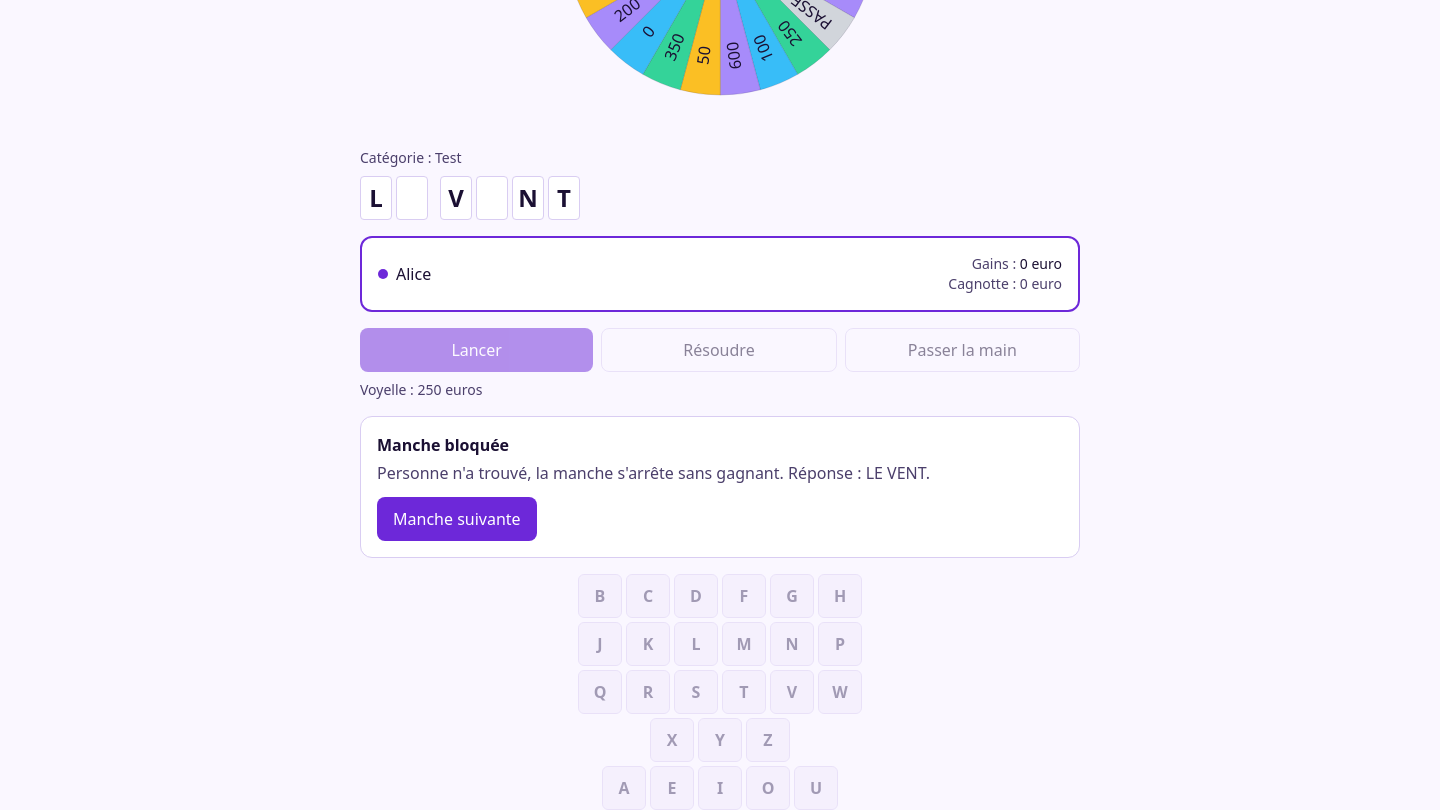
GameRoute › affiche la carte de manche bloquée, révèle la réponse et enchaîne sur la manche suivante
(page scrolled)
expect the heading "Manche bloquée" is shown: met, box [377,434,509,456]
expect the text "Réponse : LE VENT." is shown: met, box [377,462,930,484]
Click the button "Manche suivante": (457, 519) [377,497,537,541]
(page scrolled)
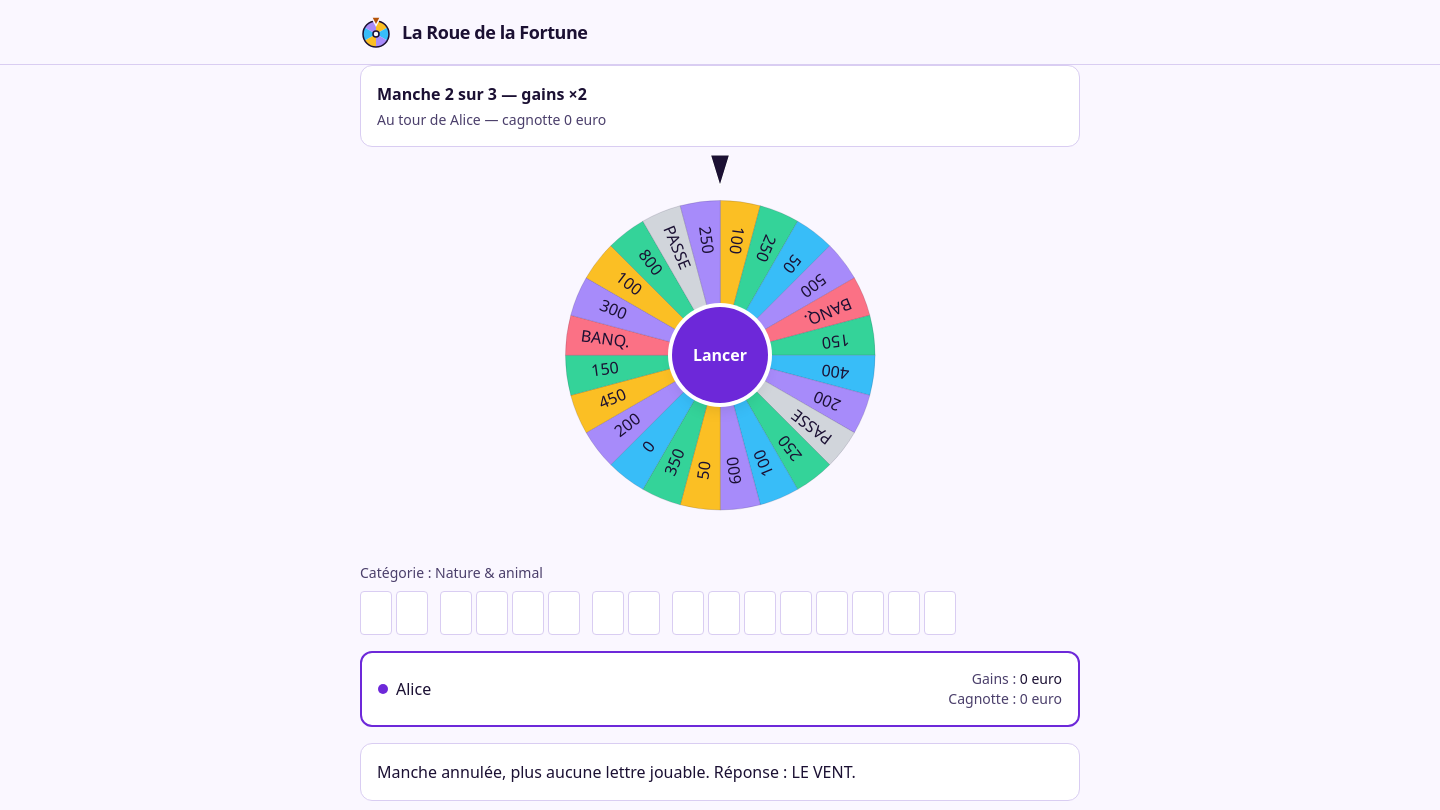
expect the heading "Manche 2 sur 3 — gains ×2" is shown: met, box [377,83,587,105]
expect the heading "Manche bloquée" is gone: met
